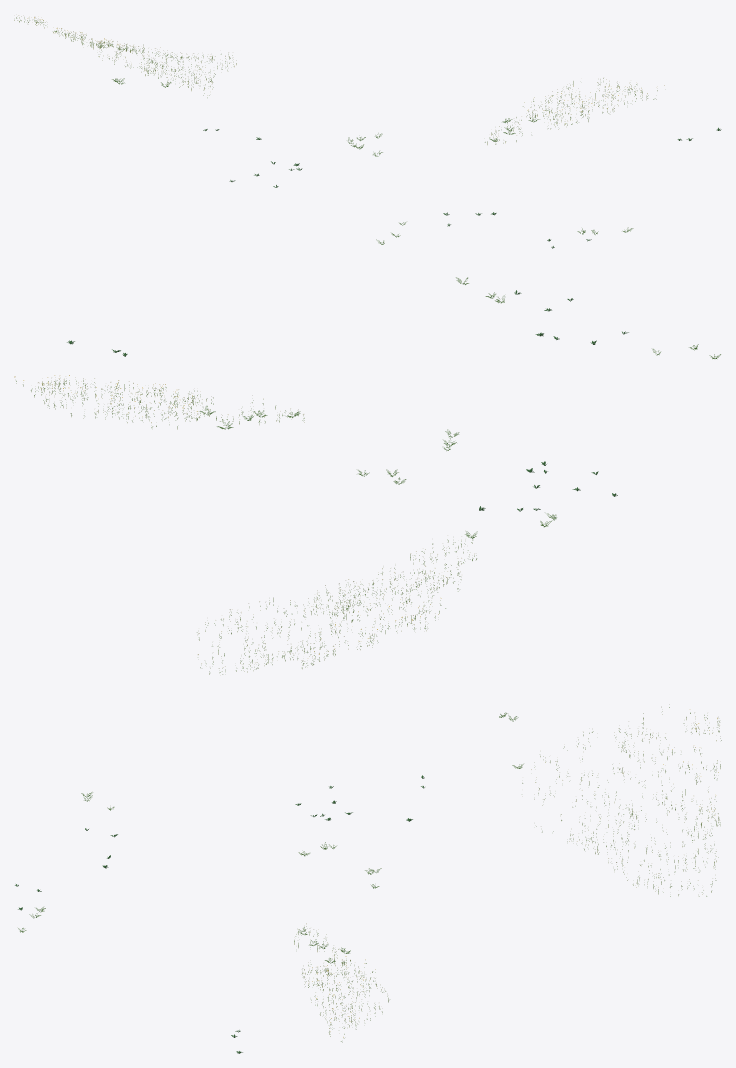
The model's file is GroundCover_19_20.glb.
3 renders of one model, top to bottom at view 1: azimuth 30°, elevation 25°; view 2: azimuth 150°, elevation 25°; view 3: azimuth 270°, elevation 25°, orthographic. The views are drawn at different scales.
Parts seen in each view (by area): view 1: GroundCover_19_20; view 2: GroundCover_19_20; view 3: GroundCover_19_20.
Boxes of the visible parts, bbox=[...] form: GroundCover_19_20: bbox=[14, 14, 721, 248]; GroundCover_19_20: bbox=[14, 277, 720, 674]; GroundCover_19_20: bbox=[15, 704, 721, 1053].
Size of the model in its own units: 55.14 by 10.02 by 63.47.
1 material, 1 textured.
